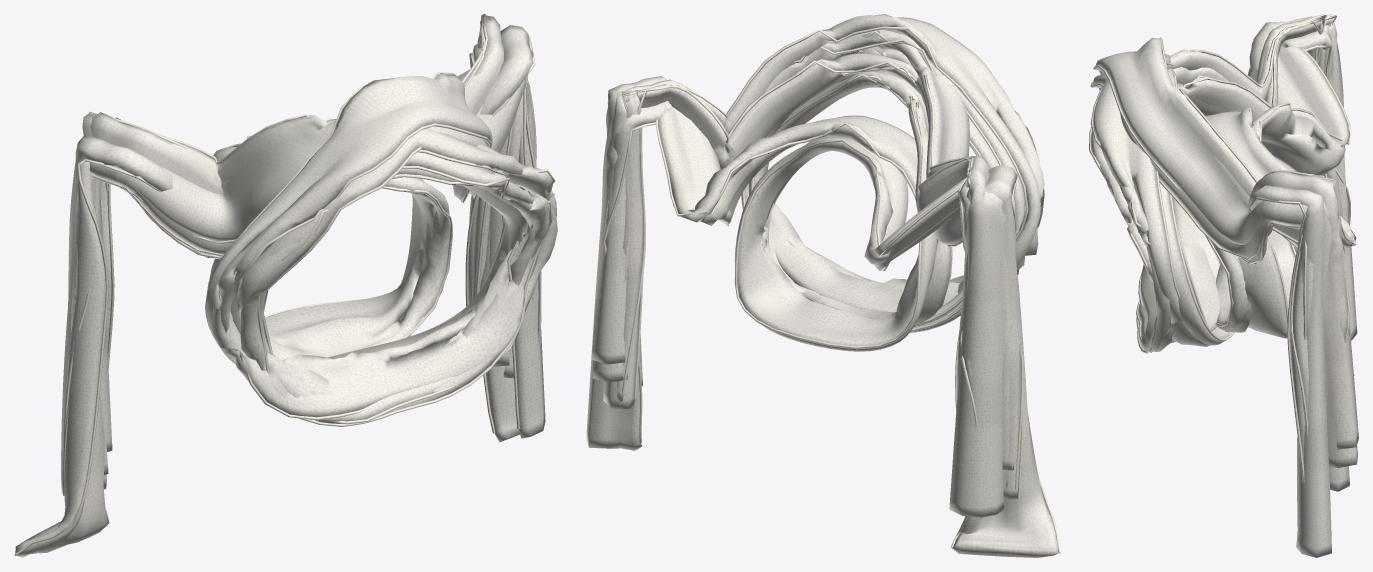
File: towel_sim.glb
3 renders of one model, left to right at view 1: azimuth 30°, elevation 25°; view 2: azimuth 150°, elevation 25°; view 3: azimuth 270°, elevation 25°, orthographic. The views are drawn at different scales.
Parts seen in each view (by area): view 1: towel_patient05, towel_patient04, towel_patient02, towel_patient03, towel_patient01; view 2: towel_patient04, towel_patient05, towel_patient03, towel_patient01, towel_patient02; view 3: towel_patient05, towel_patient04, towel_patient02, towel_patient03, towel_patient01.
Part boxes in pixels (bbox=[...]): towel_patient05: bbox=[71, 15, 557, 451]; towel_patient04: bbox=[14, 25, 545, 557]; towel_patient02: bbox=[64, 14, 551, 474]; towel_patient03: bbox=[61, 19, 535, 493]; towel_patient01: bbox=[63, 20, 541, 495]; towel_patient04: bbox=[586, 76, 1060, 557]; towel_patient05: bbox=[592, 14, 1044, 470]; towel_patient03: bbox=[603, 54, 1005, 517]; towel_patient01: bbox=[617, 53, 1023, 499]; towel_patient02: bbox=[592, 29, 1025, 489]; towel_patient05: bbox=[1090, 17, 1358, 449]; towel_patient04: bbox=[1205, 16, 1356, 557]; towel_patient02: bbox=[1089, 14, 1357, 467]; towel_patient03: bbox=[1106, 14, 1357, 491]; towel_patient01: bbox=[1149, 15, 1335, 483].
Size of the model in its own units: 0.3246 by 0.2779 by 0.164.
Materials: 2 (1 with a texture image).
